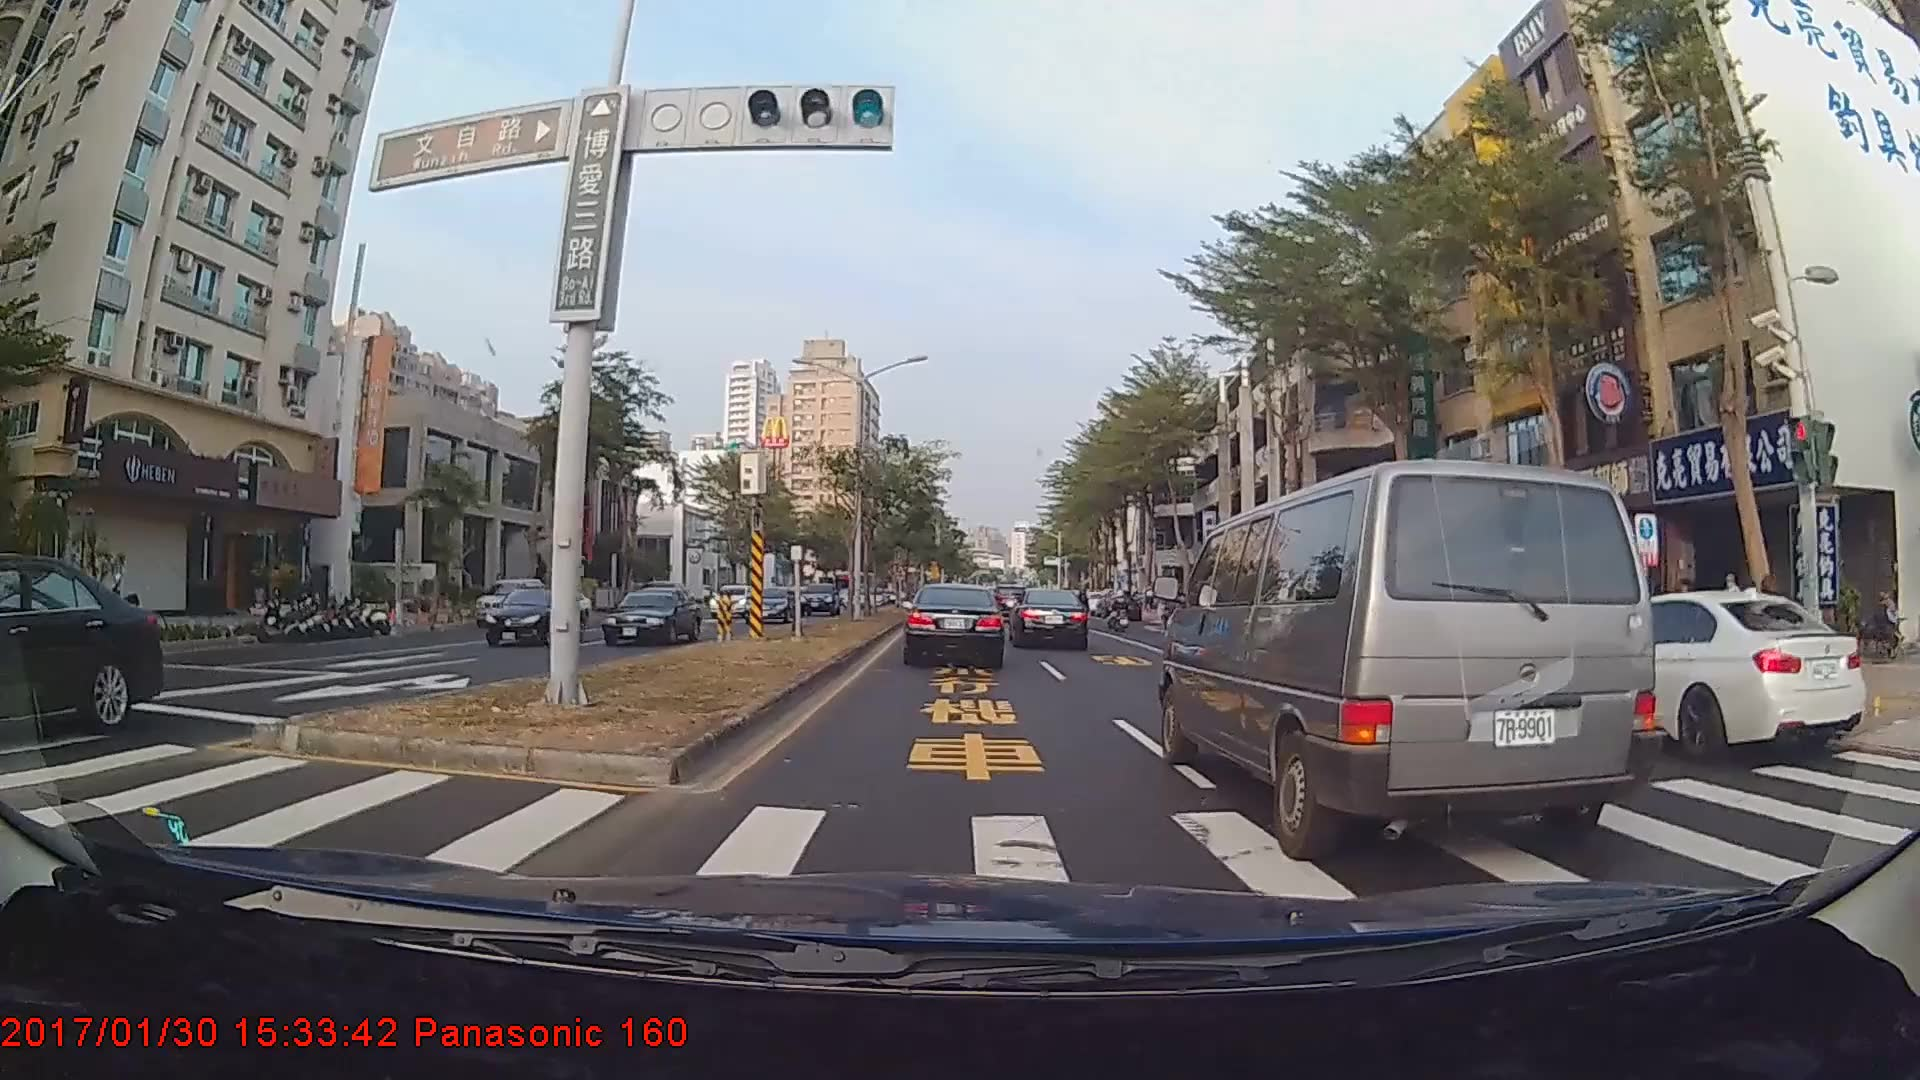vehicle: (1166, 454, 1663, 853), (1263, 477, 1639, 742), (0, 549, 164, 758), (905, 585, 1005, 667), (483, 585, 585, 647), (599, 585, 699, 645), (1007, 588, 1088, 650), (473, 578, 550, 628), (741, 585, 794, 622), (707, 583, 756, 618), (796, 582, 841, 615)
